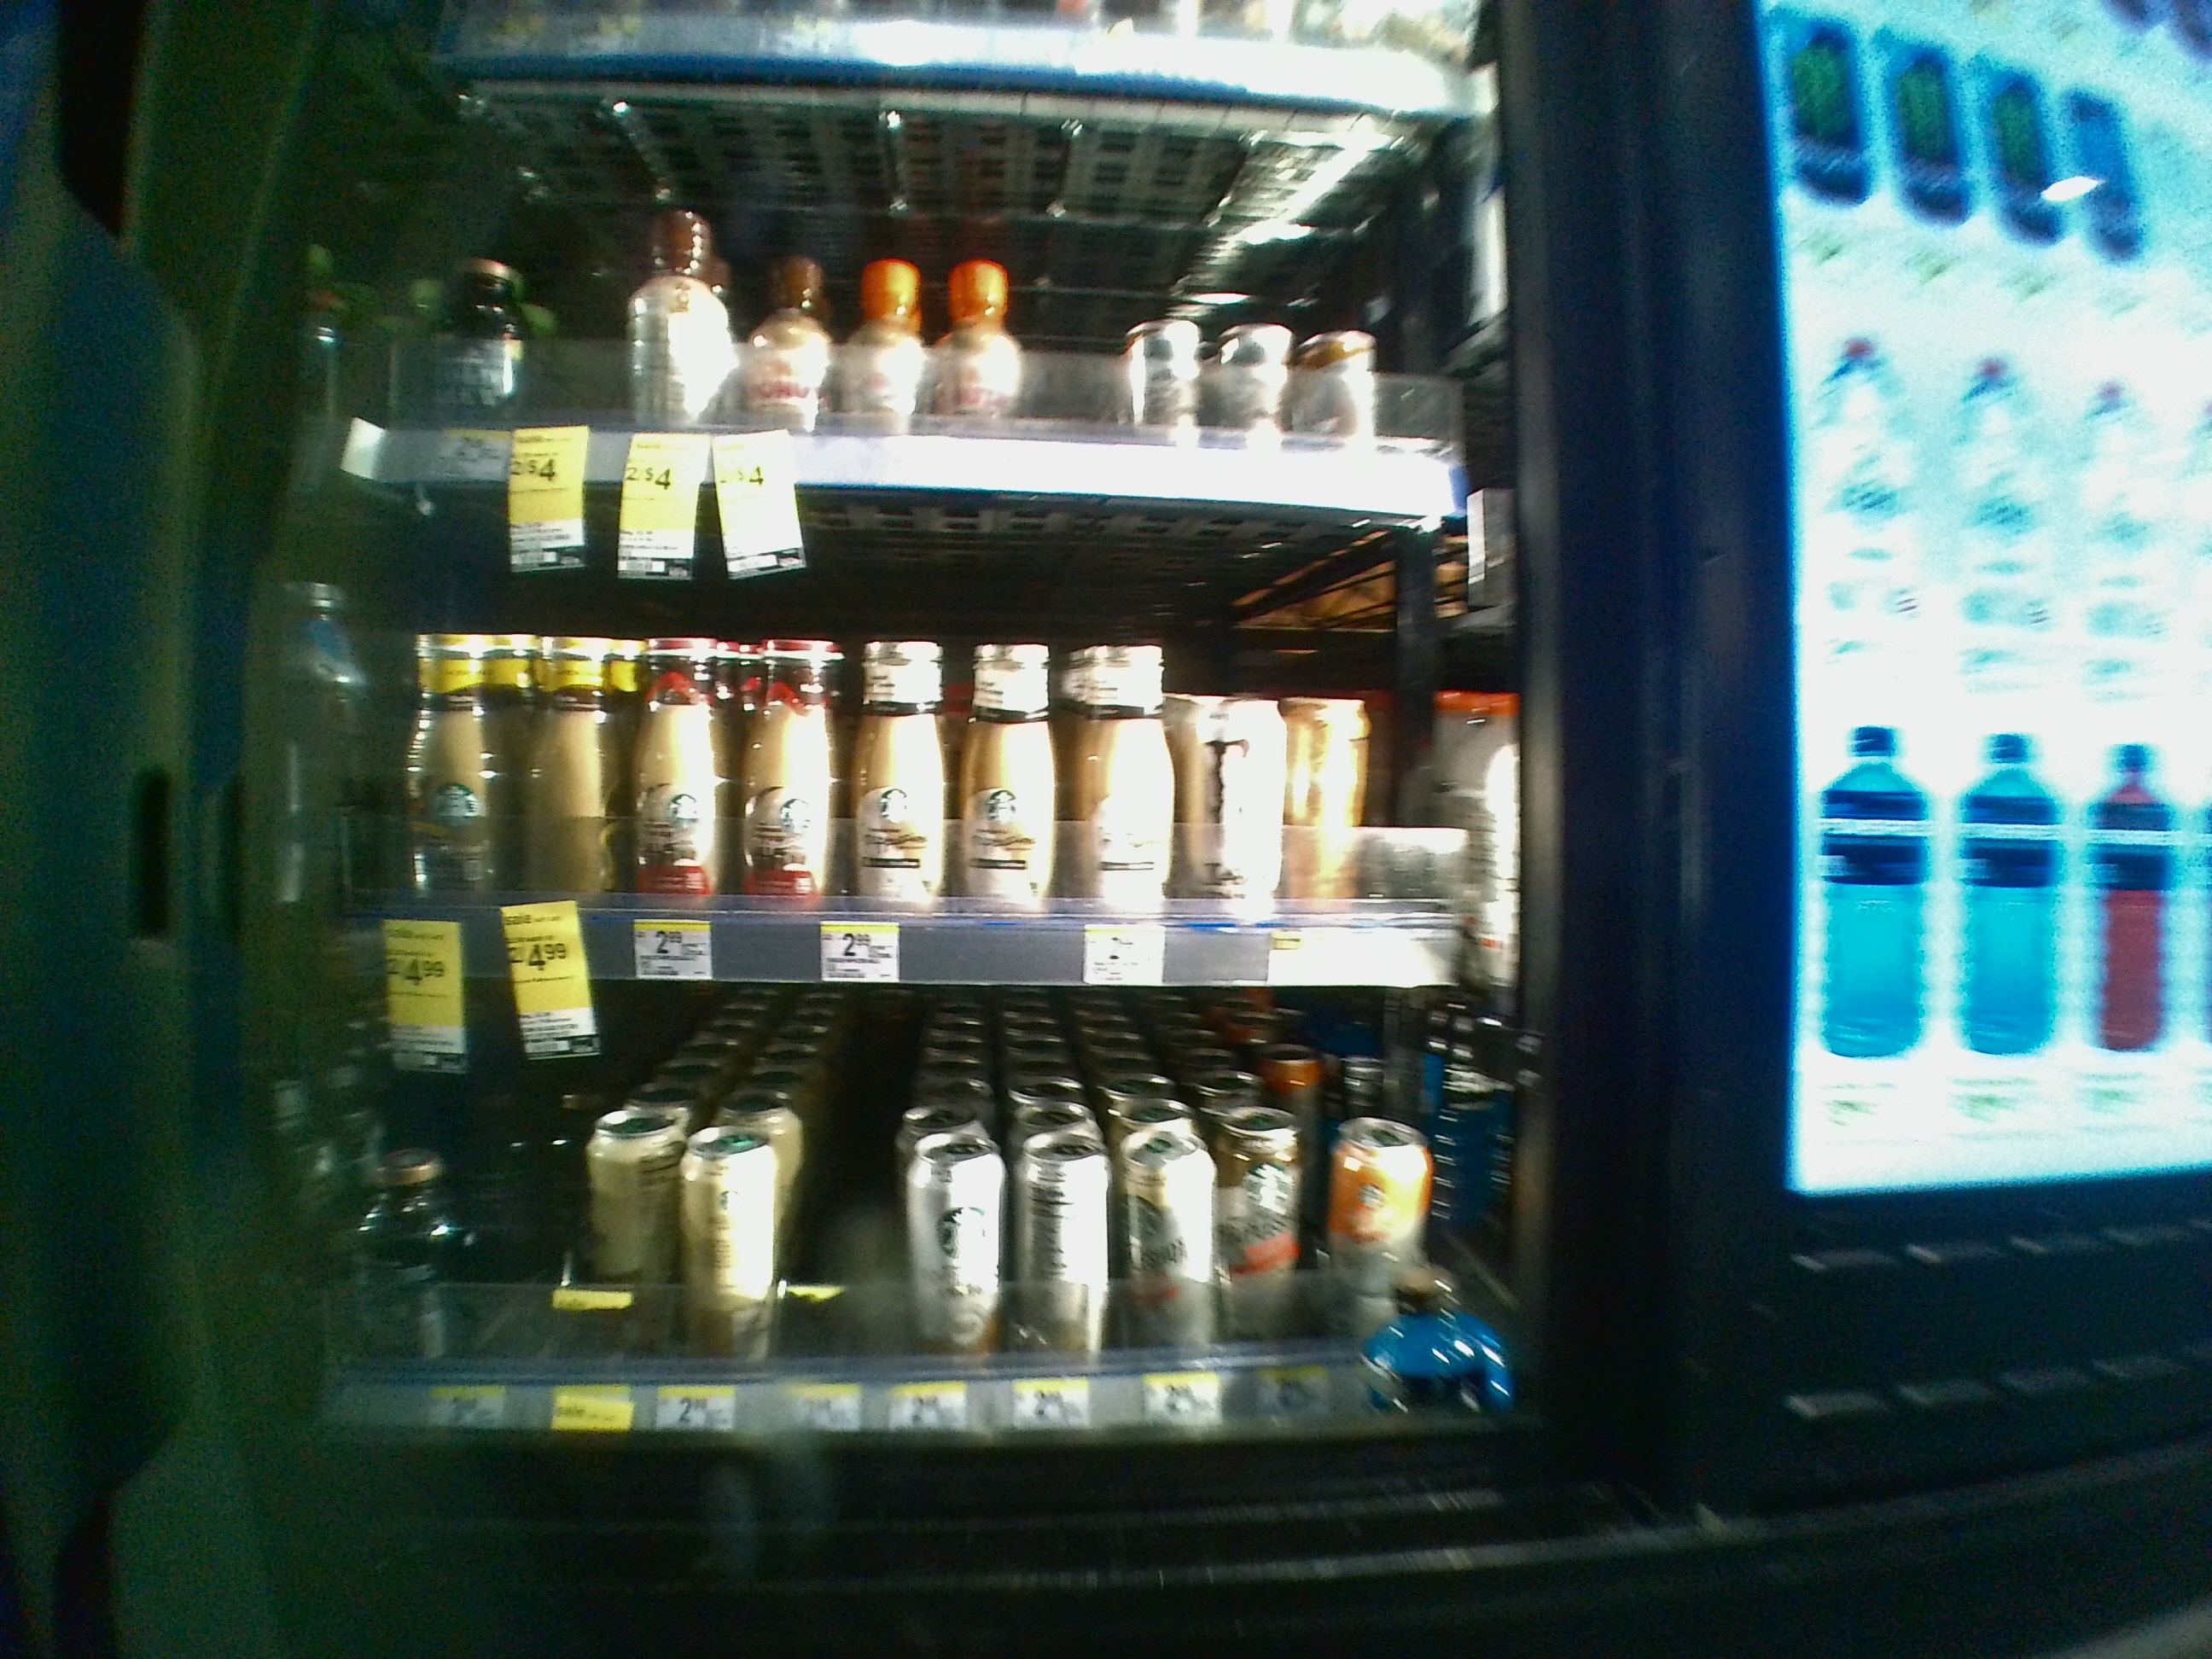shelf: (237, 493, 1543, 985), (239, 979, 1554, 1436)
